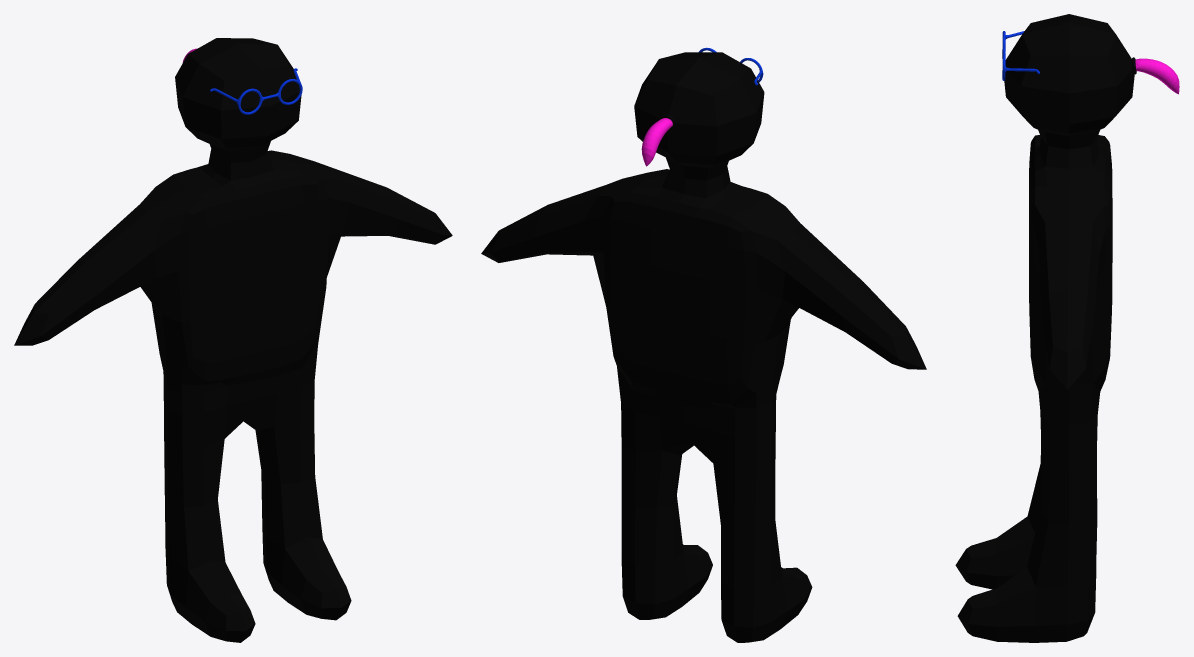
Rendered from personaje_ruben_final.glb.
3 renders of one model, left to right at view 1: azimuth 30°, elevation 25°; view 2: azimuth 150°, elevation 25°; view 3: azimuth 270°, elevation 25°, orthographic. The views are drawn at different scales.
Visible parts, largest first — view 1: Cube, Circle.001; view 2: Cube, Cylinder; view 3: Cube, Cylinder, Circle.001.
Boxes of the visible parts, left/top/right/bottom form: Cube: left=14, top=38, right=452, bottom=642; Circle.001: left=210, top=68, right=302, bottom=114; Cube: left=481, top=52, right=926, bottom=642; Cylinder: left=641, top=118, right=672, bottom=166; Cube: left=955, top=14, right=1134, bottom=642; Cylinder: left=1135, top=58, right=1179, bottom=94; Circle.001: left=1002, top=31, right=1039, bottom=80.
Bounding box in the file's own units: 17.97 × 22.09 × 7.57.
